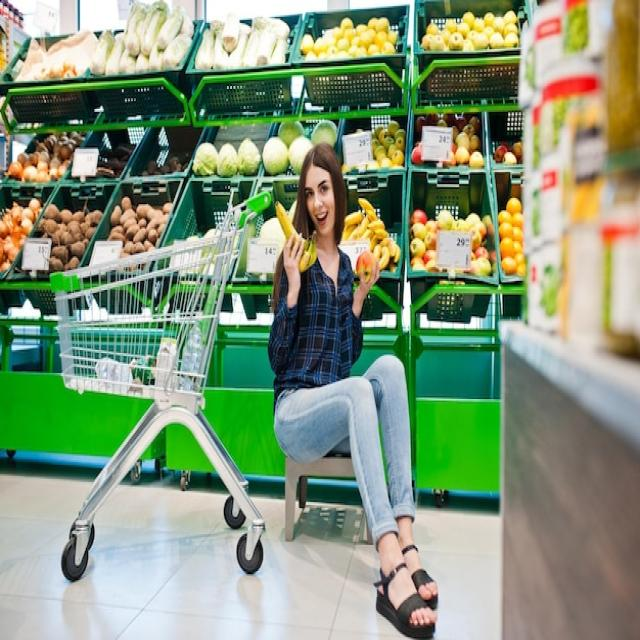Person: (267, 142, 437, 640)
